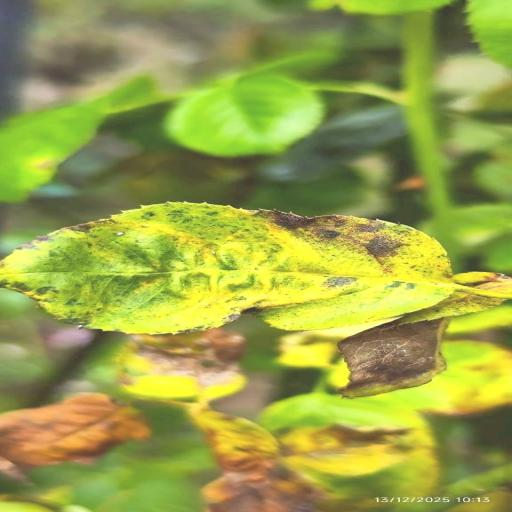thrip: (0, 202, 490, 333), (192, 410, 316, 512), (0, 393, 149, 470), (119, 328, 245, 400), (337, 320, 447, 398)
